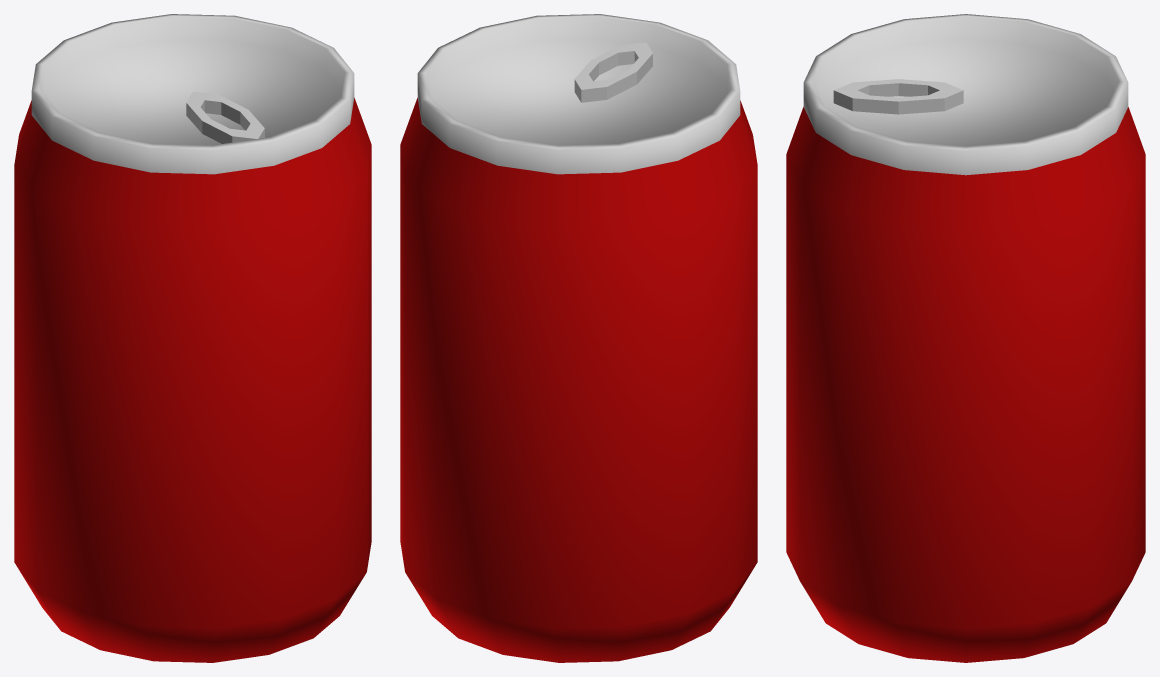
Rendered from sodacan.fbx.
3 renders of one model, left to right at view 1: azimuth 30°, elevation 25°; view 2: azimuth 150°, elevation 25°; view 3: azimuth 270°, elevation 25°, orthographic.
Visible parts, largest first — view 1: Cylinder; view 2: Cylinder; view 3: Cylinder.
Part boxes in pixels (box(x1,y1,x2,y2)): Cylinder: box(14, 14, 371, 662); Cylinder: box(400, 14, 757, 662); Cylinder: box(786, 14, 1145, 662).
Size of the model in its own units: 2 by 3.18 by 2.
